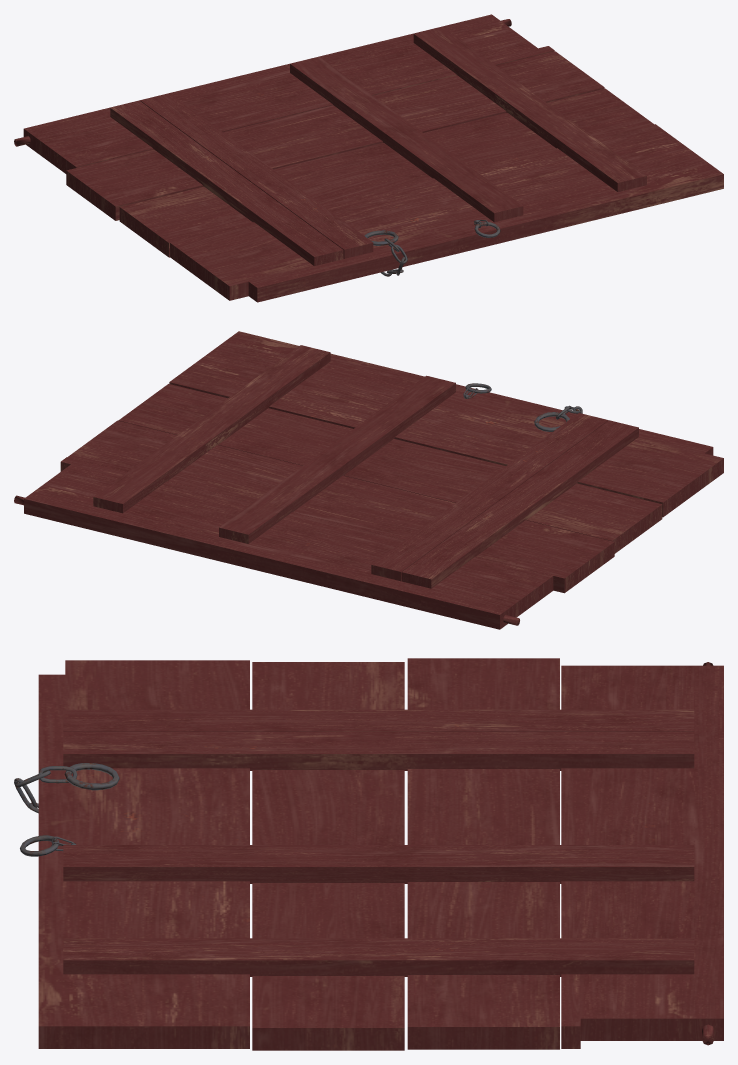
Rendered from SM_Door01a.fbx.
3 renders of one model, top to bottom at view 1: azimuth 30°, elevation 25°; view 2: azimuth 150°, elevation 25°; view 3: azimuth 270°, elevation 25°, orthographic. The views are drawn at different scales.
Visible parts, largest first — view 1: SM_Door01a; view 2: SM_Door01a; view 3: SM_Door01a.
Boxes of the visible parts, <box> form: SM_Door01a: <box>14,14,723,302</box>; SM_Door01a: <box>14,331,723,629</box>; SM_Door01a: <box>14,658,723,1050</box>.
Bounding box in the file's own units: 142 × 115 × 10.24.
Materials: 2 (2 with a texture image).
